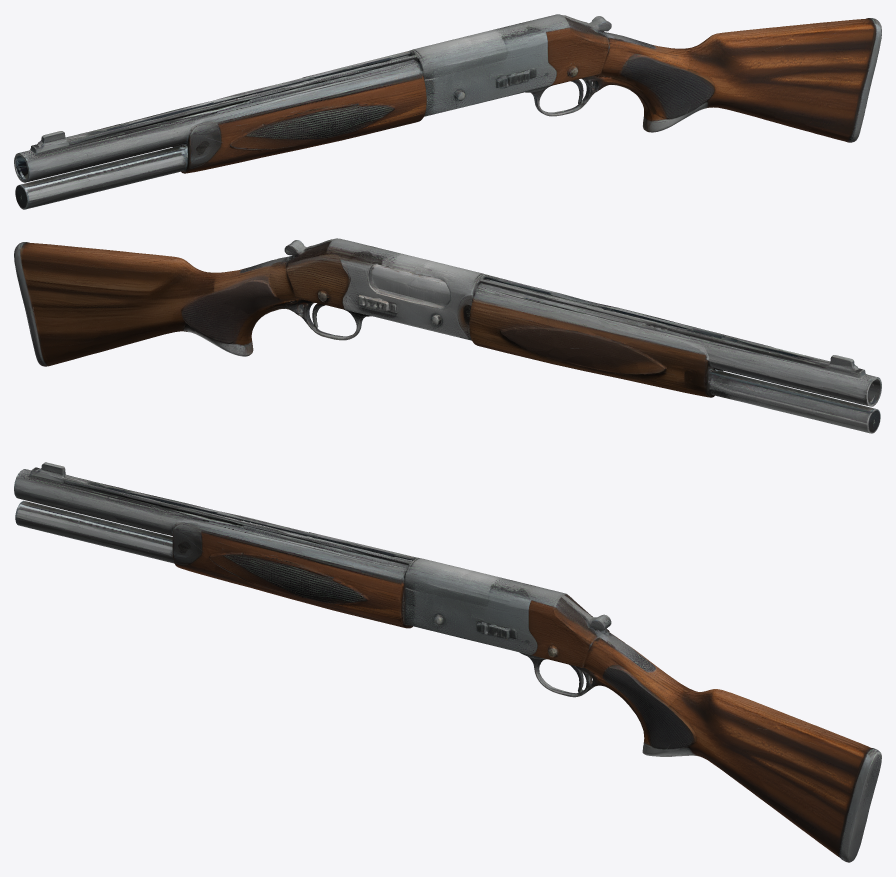
3 renders of one model, top to bottom at view 1: azimuth 30°, elevation 25°; view 2: azimuth 150°, elevation 25°; view 3: azimuth 330°, elevation 25°, orthographic.
Bounding box in the file's own units: 1.9 × 0.4282 × 0.1095.
1 material, 1 textured.
